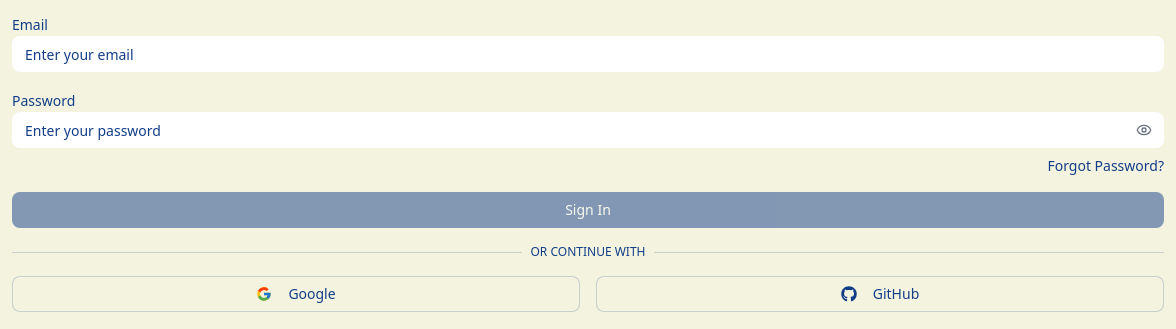
Test: LoginForm Component › button is disabled during login
The image size is (1176, 329).
Type "test@example.com" into the field with placeholder "Enter your email".
click(588, 54); type("test@example.com")  # box [12, 36, 1164, 72]
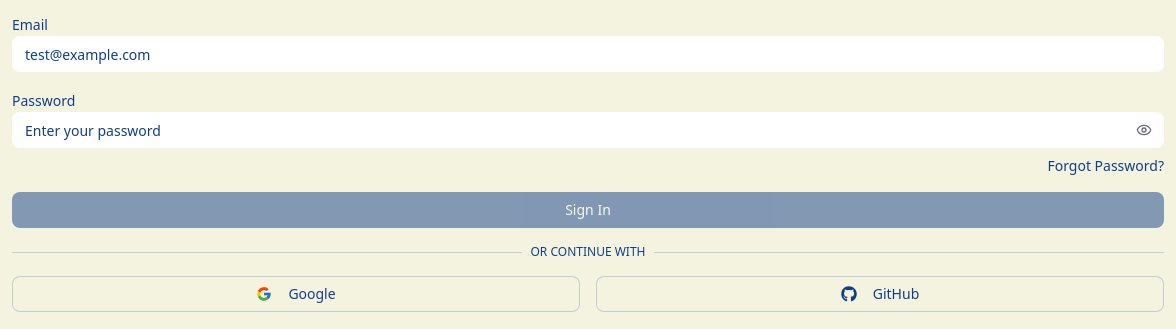
Type "password123" into the password field with placeholder "Enter your password".
click(588, 130); type("password123")  # box [12, 112, 1164, 148]
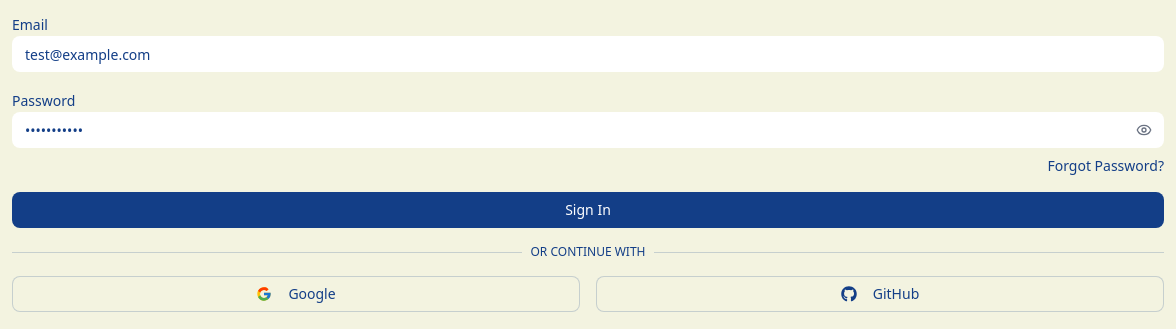
Click the button "Sign In".
click(588, 210)  # box [12, 192, 1164, 228]
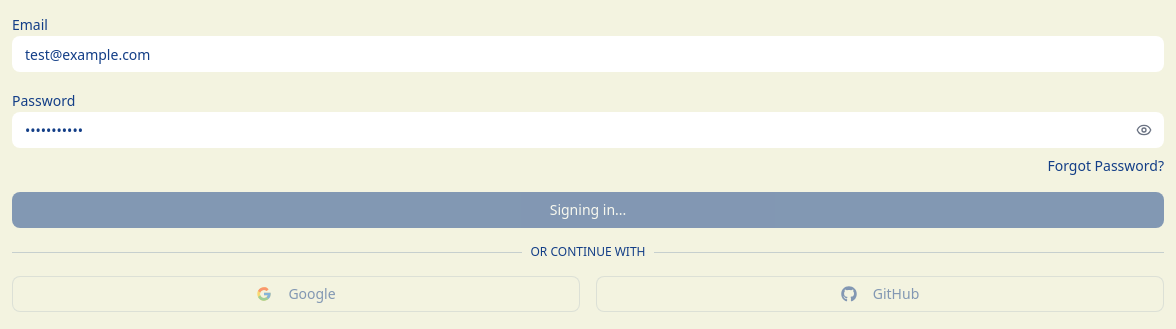
Expected: the button "Signing in..." is disabled, [12, 192, 1164, 228]
